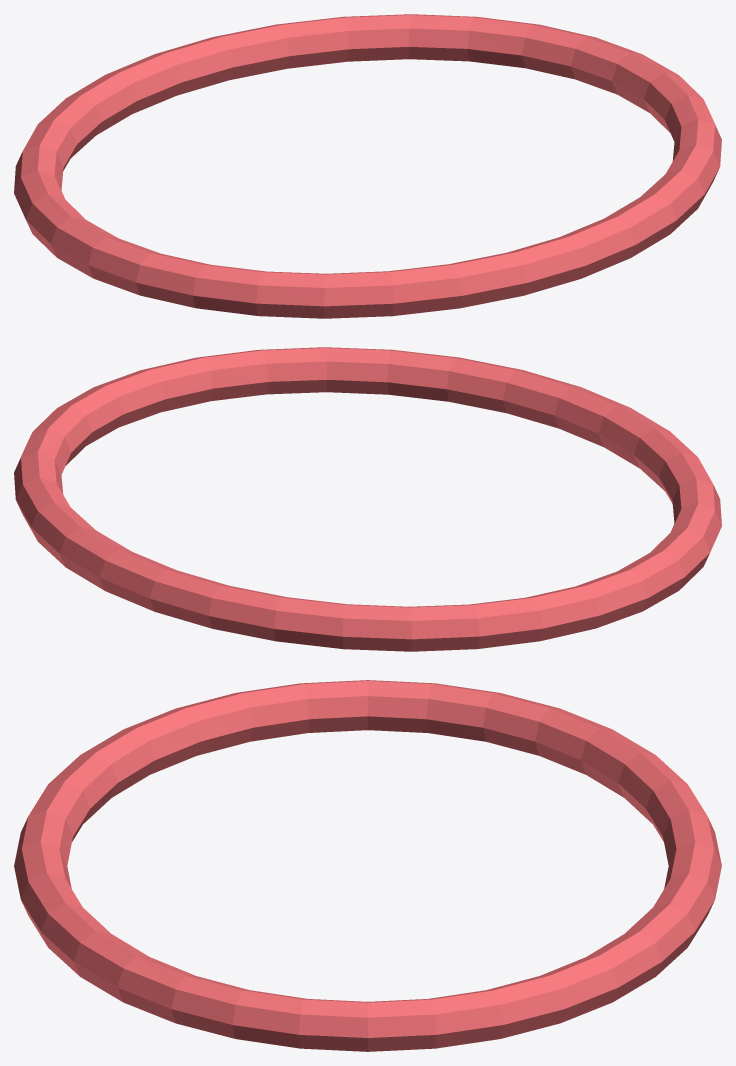
The model's file is collar.glb.
3 renders of one model, top to bottom at view 1: azimuth 30°, elevation 25°; view 2: azimuth 150°, elevation 25°; view 3: azimuth 270°, elevation 25°, orthographic. The views are drawn at different scales.
Visible parts, largest first — view 1: collar; view 2: collar; view 3: collar.
Part boxes in pixels (box(x1,y1,x2,y2)): collar: box(14, 14, 721, 318); collar: box(14, 347, 721, 651); collar: box(14, 680, 721, 1051).
Size of the model in its own units: 1.07 by 0.07 by 0.93.
